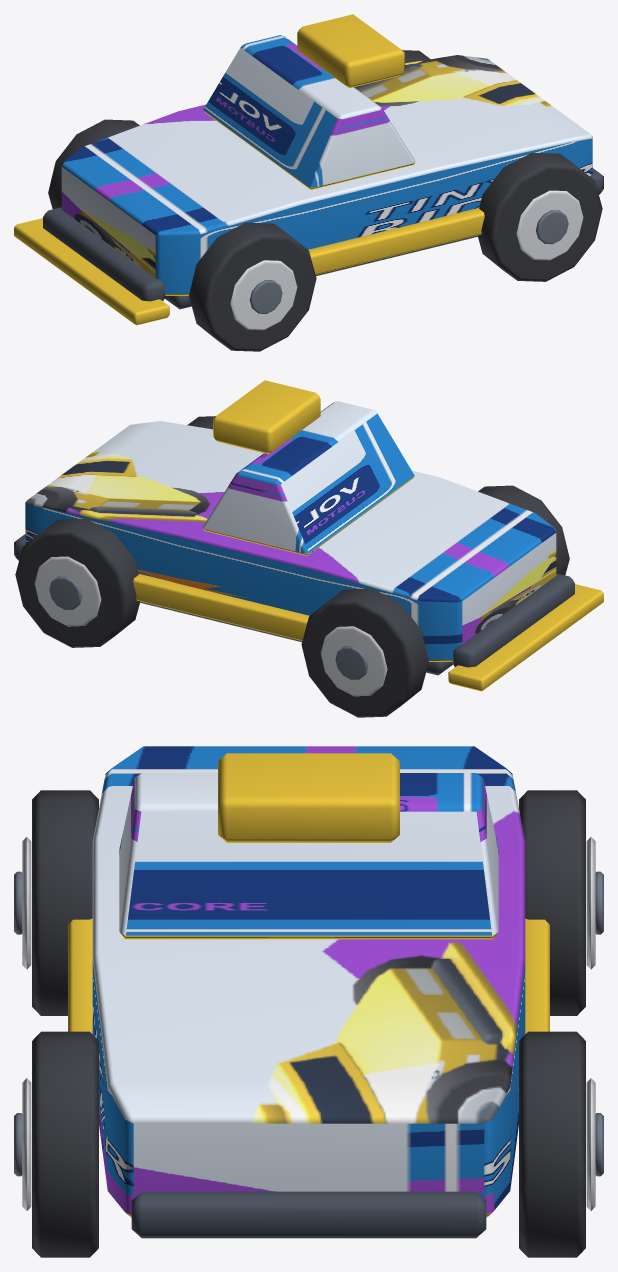
3 renders of one model, top to bottom at view 1: azimuth 30°, elevation 25°; view 2: azimuth 150°, elevation 25°; view 3: azimuth 270°, elevation 25°, orthographic. The views are drawn at different scales.
Parts seen in each view (by area): view 1: FF-03_connected_shell, FF-03_cabin, Tire, Tire.002, custom equipment, custom side guard, custom chin, front bumper, Rim.002, Rim, Tire.001, Hub.002 (+2 smaller); view 2: FF-03_connected_shell, FF-03_cabin, Tire.001, Tire.003, custom equipment, custom side guard.001, custom chin, front bumper, Rim.003, Rim.001, Tire, Hub.003 (+2 smaller); view 3: FF-03_connected_shell, FF-03_cabin, rear bumper, custom equipment, Tire.002, Tire.003, Tire, Tire.001, custom side guard, custom side guard.001, Rim.002, Rim.003 (+2 smaller).
Part boxes in pixels (x1,y1,x2,y2): FF-03_connected_shell: (61,55,592,295); FF-03_cabin: (203,35,415,189); Tire: (189,222,316,351); Tire.002: (477,152,602,281); custom equipment: (297,14,404,88); custom side guard: (308,208,484,274); custom chin: (14,218,169,325); front bumper: (43,207,165,301); Rim.002: (516,190,583,260); Rim: (230,260,297,330); Tire.001: (48,119,139,209); Hub.002: (535,210,568,244); FF-03_connected_shell: (25,421,556,661); FF-03_cabin: (202,401,414,555); Tire.001: (301,588,428,717); Tire.003: (15,518,140,647); custom equipment: (213,380,320,454); custom side guard.001: (133,574,309,640); custom chin: (448,584,603,691); front bumper: (452,573,574,667); Rim.003: (34,556,101,626); Rim.001: (320,626,387,696); Tire: (478,485,569,575); Hub.003: (49,576,82,610); FF-03_connected_shell: (92,746,525,1217); FF-03_cabin: (119,773,498,939); rear bumper: (131,1191,486,1238); custom equipment: (218,753,399,842); Tire.002: (32,1031,98,1257); Tire.003: (519,1031,585,1257); Tire: (32,790,98,1015); Tire.001: (519,790,585,1015); custom side guard: (68,918,92,1033); custom side guard.001: (525,918,549,1033); Rim.002: (22,1078,31,1210); Rim.003: (586,1078,595,1210).
Bounding box in the file's own units: 373 × 160 × 229.
